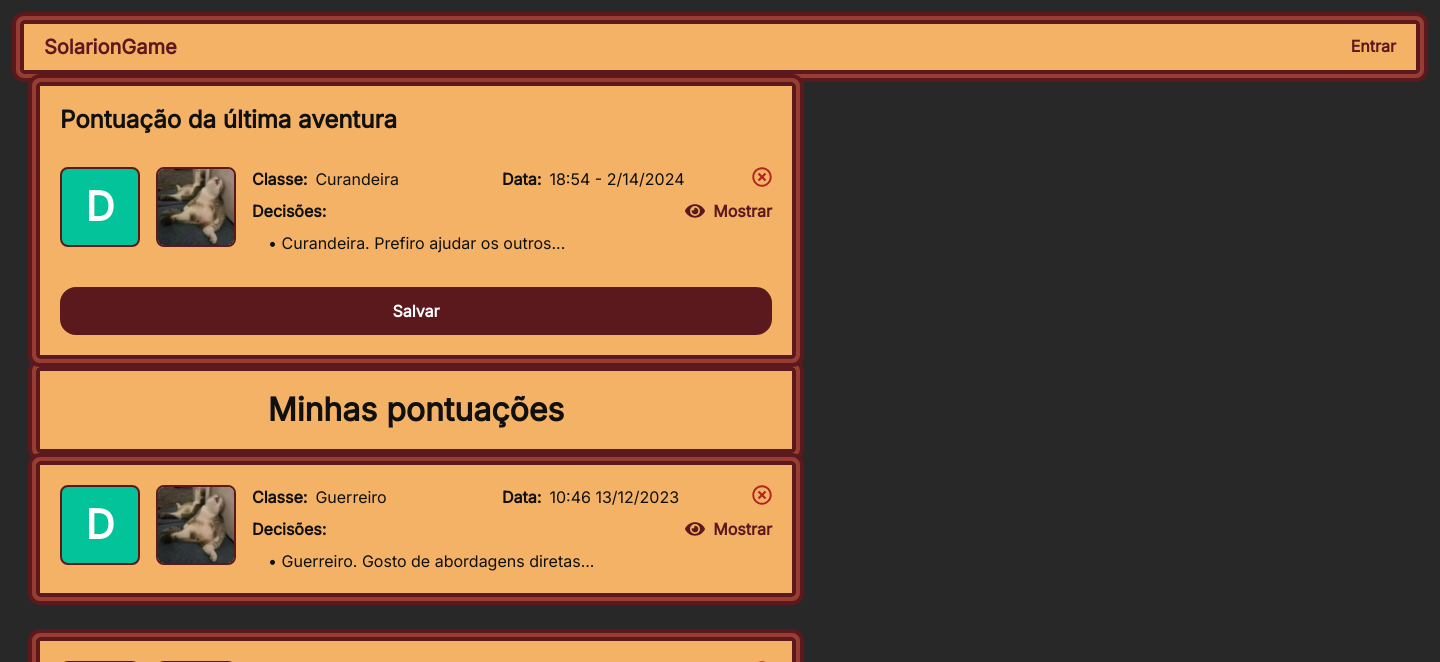
Test: MyScores Page › when have last scenario › and when finished › and when click to save › and when createScoreApi request succeeds › should hide the save card
Expected: the heading "Pontuação da última aventura" is shown, [60,105,397,134]
Click the button "Salvar": click(416, 311) [60,287,772,335]
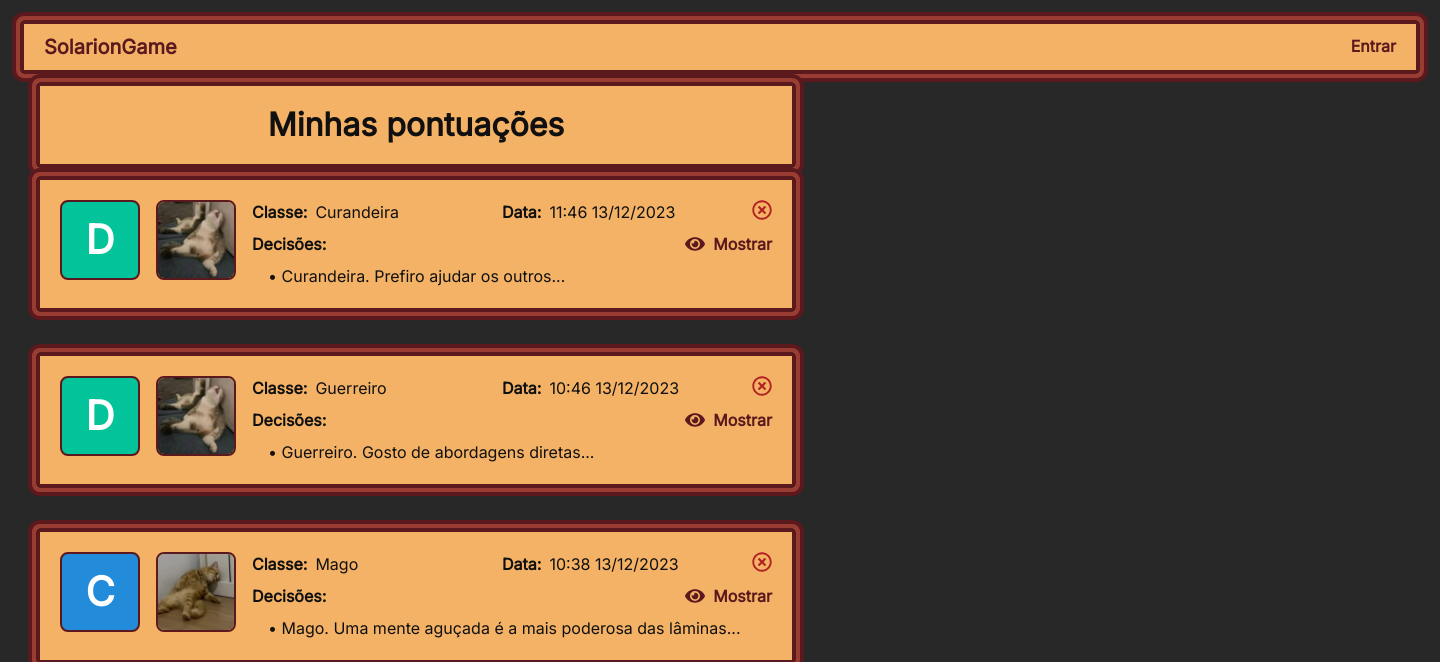
Expected: the heading "Pontuação da última aventura" is gone
